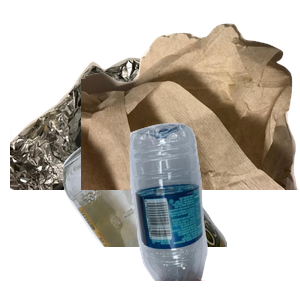glass: (60, 120, 300, 300)
metal: (10, 47, 216, 227)
plastic: (127, 120, 300, 300)
trash: (81, 21, 300, 201)
